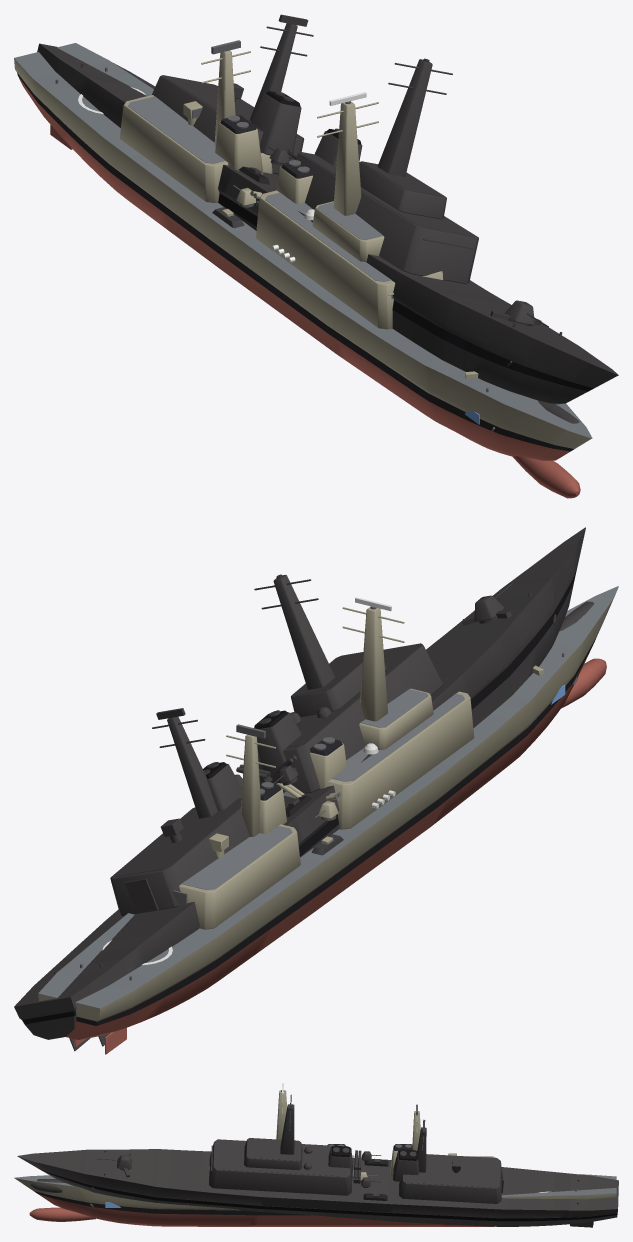
File: asFrigate__niteroi_class.glb
3 renders of one model, top to bottom at view 1: azimuth 30°, elevation 25°; view 2: azimuth 150°, elevation 25°; view 3: azimuth 270°, elevation 25°, orthographic. The views are drawn at different scales.
Parts seen in each view (by area): view 1: Hull_Mesh, Wreck; view 2: Hull_Mesh, Wreck; view 3: Wreck, Hull_Mesh.
Boxes of the visible parts, box(x1,y1,x2,y2) form: Hull_Mesh: box(14, 40, 592, 498); Wreck: box(37, 14, 618, 423); Hull_Mesh: box(38, 586, 618, 1054); Wreck: box(14, 527, 594, 1051); Wreck: box(17, 1094, 618, 1227); Hull_Mesh: box(14, 1090, 616, 1226).
Size of what is drawn, in the model's own units: 22.61 by 35.33 by 135.
